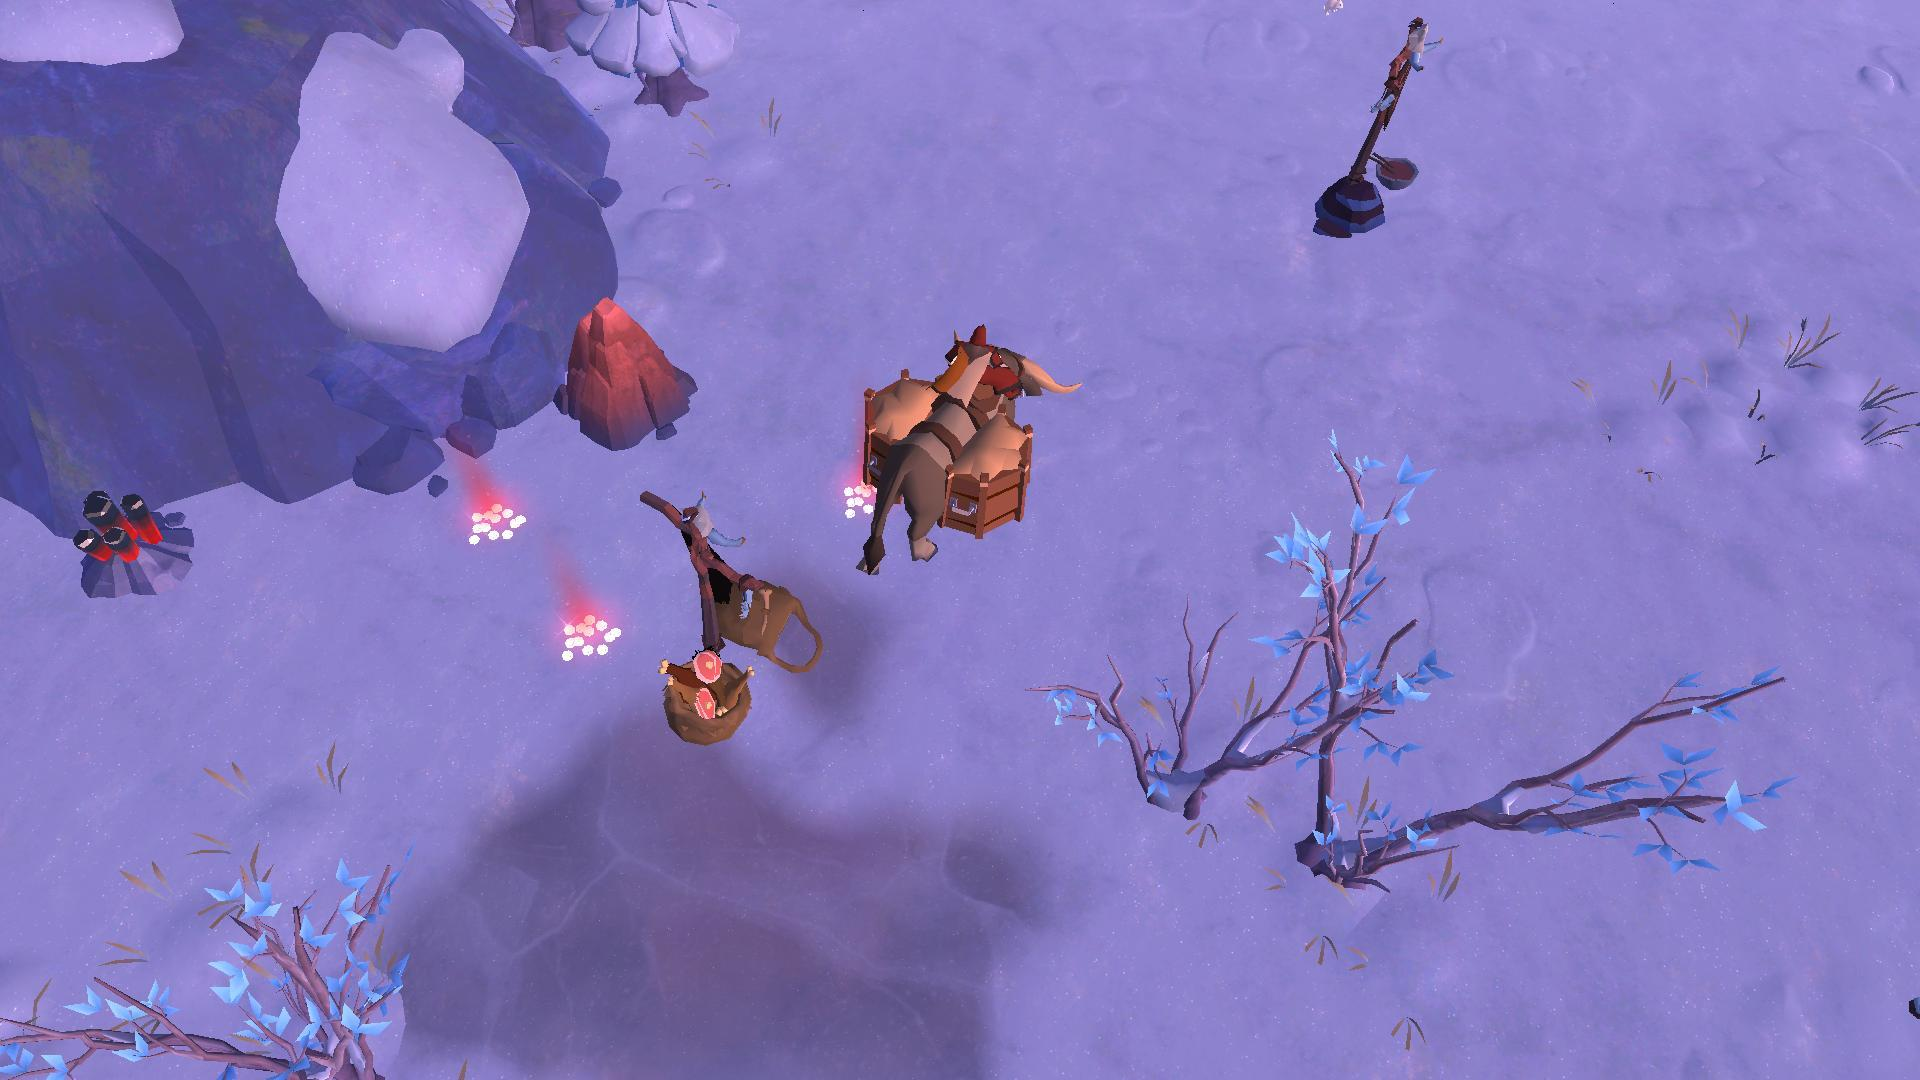ore_t5: (62, 489, 164, 567)
rock_t5: (556, 298, 696, 454)
